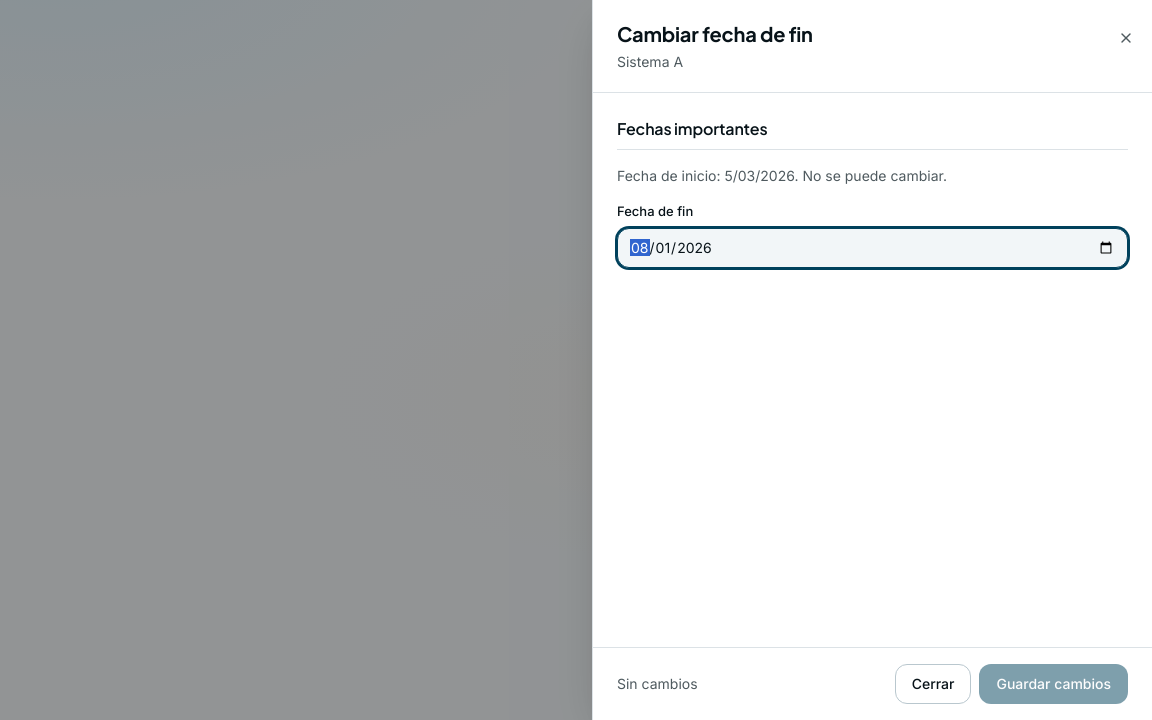
it: CambiarFechaFinMapaRutaPanel › con fecha igual o anterior al inicio muestra el error y no envía
The image size is (1152, 720).
Type "2026-03-05" into the date field labelled "Fecha de fin" at (872, 248), box [617, 228, 1128, 268]
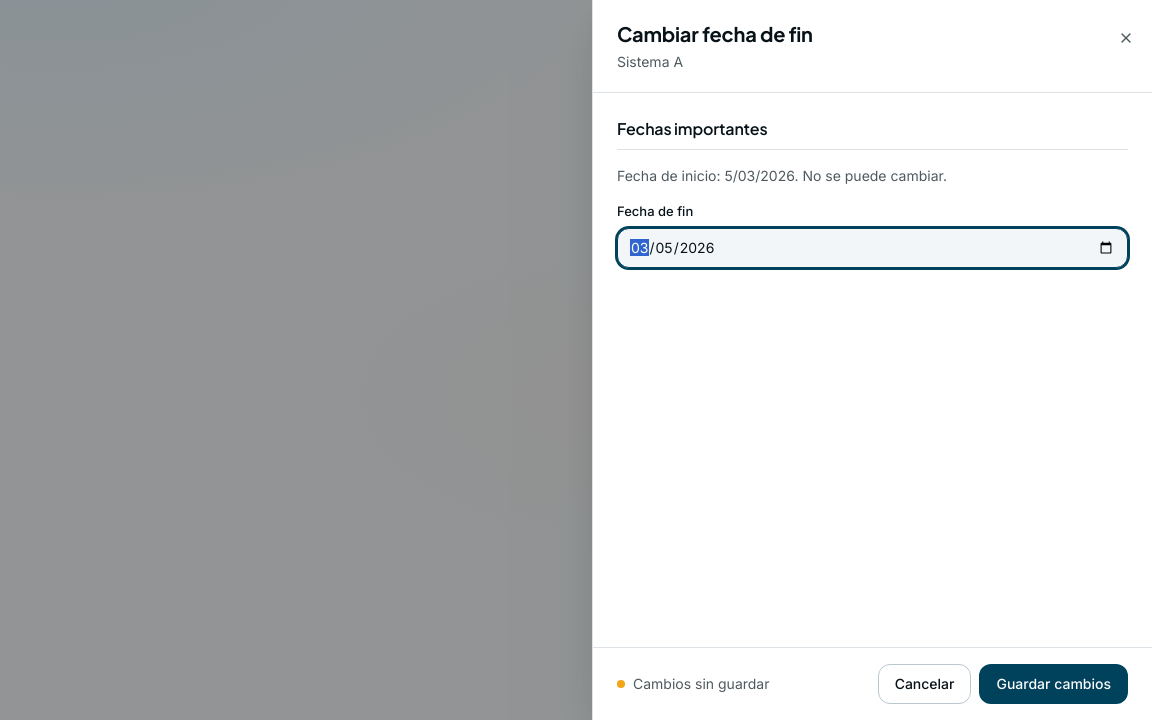
Click the button "Guardar cambios" at (1054, 684), box [980, 664, 1128, 704]
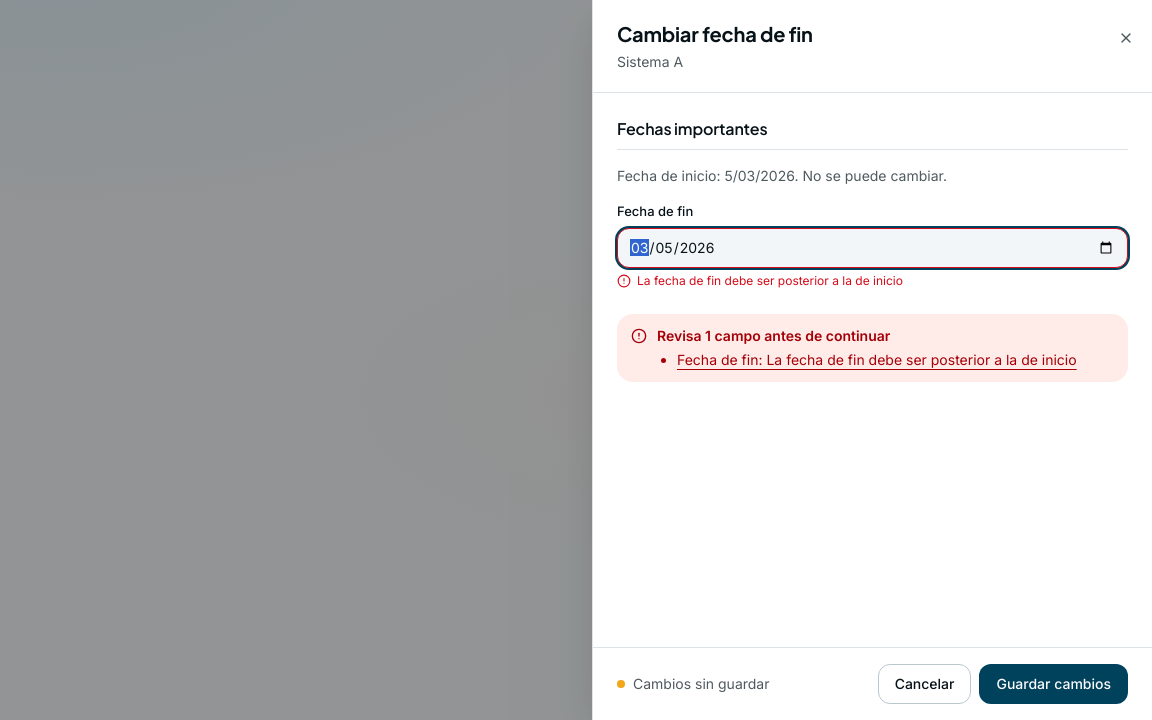
Result: the message "La fecha de fin debe ser posterior a la de inicio" is shown at [617, 272, 903, 290]
